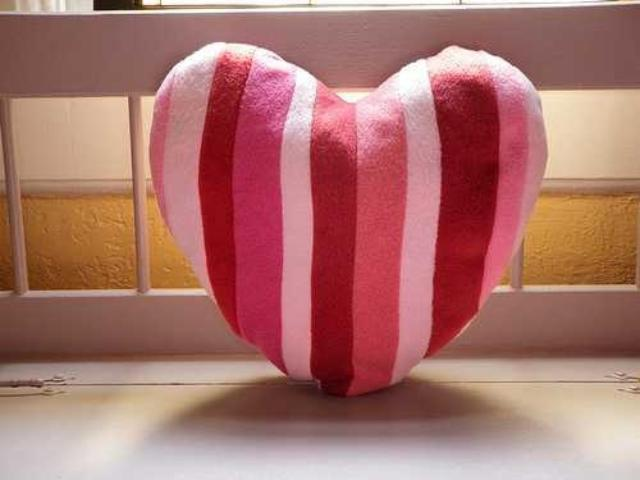pillow: (147, 39, 548, 396)
